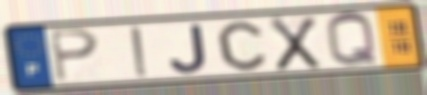C: (214, 19, 269, 72)
I: (127, 24, 152, 80)
J: (167, 22, 210, 75)
P: (47, 28, 102, 84)
Q: (323, 11, 382, 70)
X: (267, 15, 324, 73)
